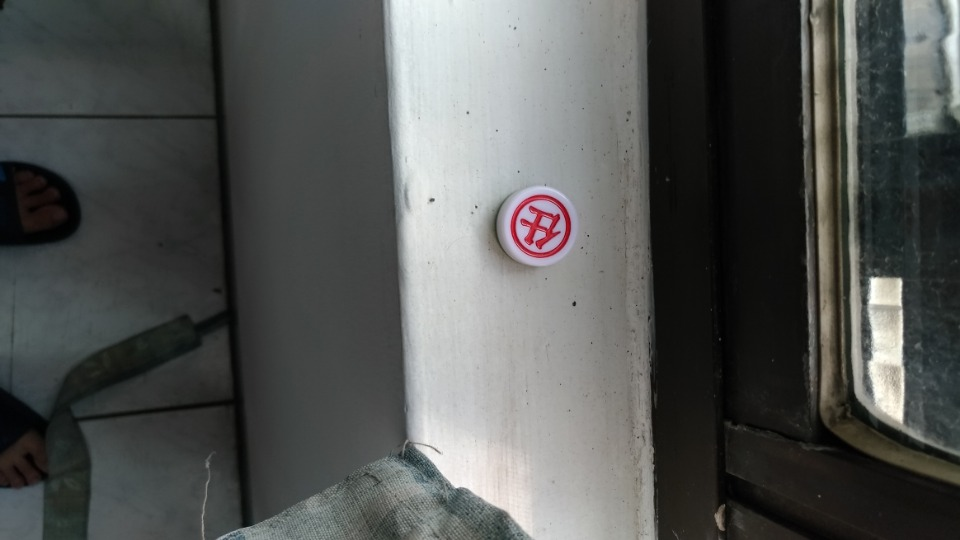r-advisor: (496, 185, 581, 271)
